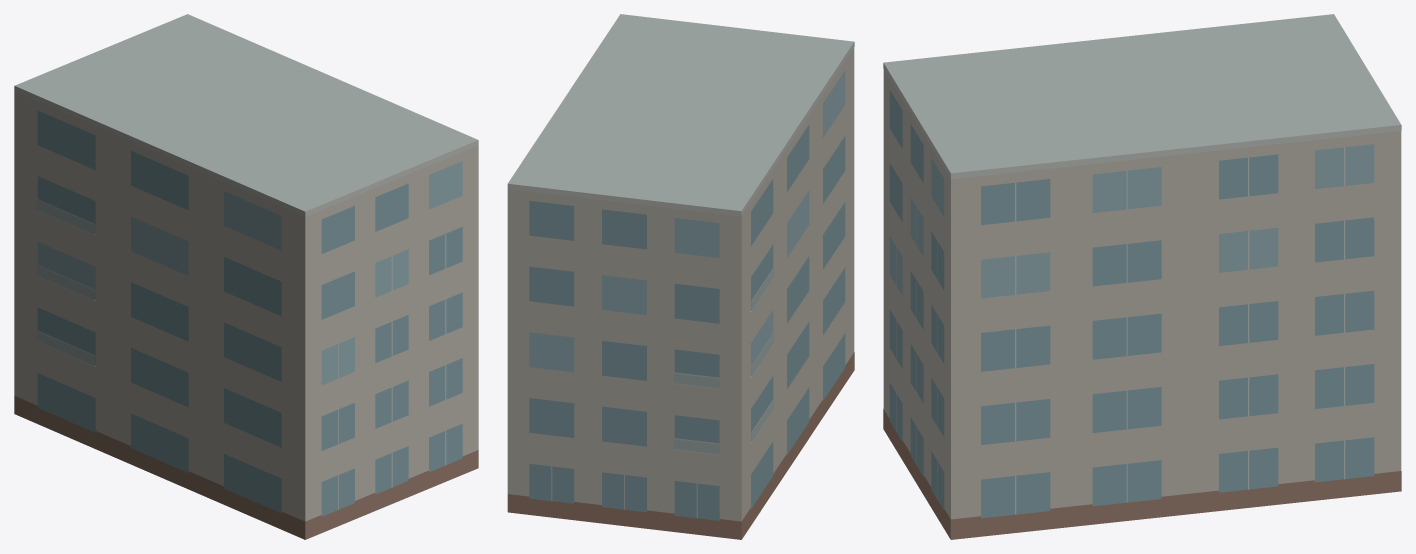
Rendered from survey-upis-32606603.glb.
The picture shows the model from 3 angles, left to right: view 1: azimuth 30°, elevation 25°; view 2: azimuth 150°, elevation 25°; view 3: azimuth 270°, elevation 25°; orthographic projection. The views are drawn at different scales.
Parts seen in each view (by area): view 1: survey-upis-32606603.tmp; view 2: survey-upis-32606603.tmp; view 3: survey-upis-32606603.tmp.
Part boxes in pixels (x1,y1,x2,y2): survey-upis-32606603.tmp: [14, 14, 478, 539]; survey-upis-32606603.tmp: [507, 14, 854, 539]; survey-upis-32606603.tmp: [883, 14, 1401, 539].
Bounding box in the file's own units: 14.23 × 15.25 × 19.54.
